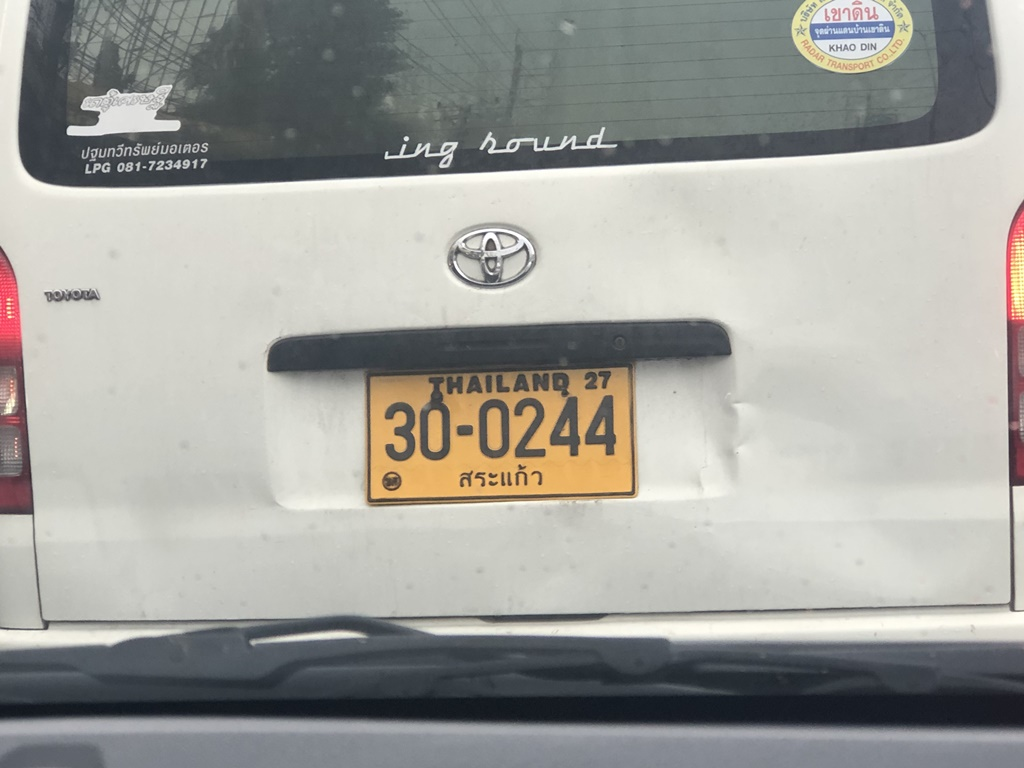four: (581, 391, 628, 461), (548, 394, 584, 464)
zero: (413, 396, 455, 470), (470, 390, 513, 462)
